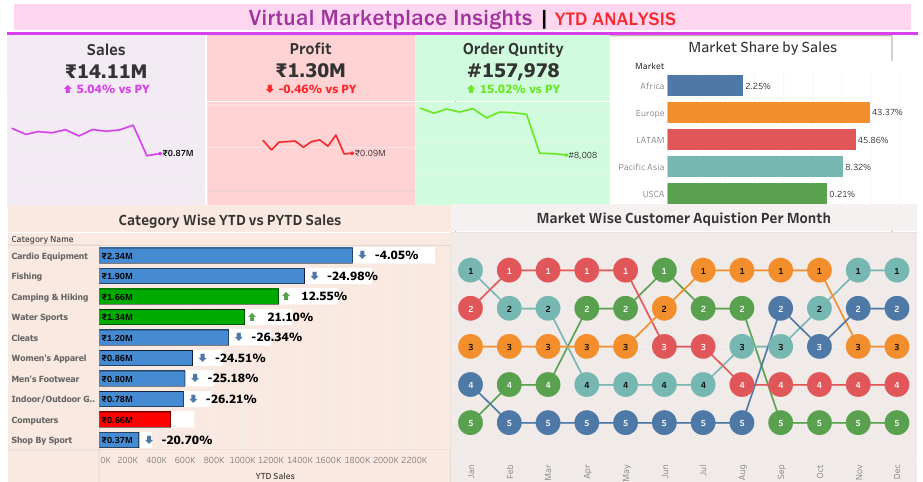

Layout of this report page (visuals, bound fields, positions):
{"tool":"tableau","page":{"name":"Dashboard 1","canvas":[1600,900],"ordinal":0},"visuals":[{"type":"title","box":[8,8,1584,53]},{"type":"blank","box":[8,61,776,415.5]},{"type":"web page","param":"Virtual Marketplace Insights","box":[784,61,776,415.5]},{"type":"blank","box":[1560,61,32,831]},{"type":"worksheet","title":"Market Share by Sales","mark":"Automatic","rows":["Market"],"cols":["Sales"],"box":[1060,63,536,306]},{"type":"worksheet","title":"Profit KPI","mark":"Automatic","rows":["Profit Per Order"],"cols":["Order Date"],"box":[351,65,364,301]},{"type":"worksheet","title":"Order Qunatity KPI","mark":"Automatic","rows":["Order Quantity"],"cols":["Order Date"],"box":[718,65,342,300]},{"type":"worksheet","title":"Sales KPI","mark":"Automatic","rows":["Sales"],"cols":["Order Date"],"box":[0,66,347,301]},{"type":"worksheet","title":"Market Wise Customer Aquisition Per Month","mark":"Automatic","cols":["Order Date"],"box":[780,363,818,491]},{"type":"worksheet","title":"Category Wise YTD vs PYTD Sales","mark":"Bar","rows":["Category Name"],"cols":["Calculation_1702642176911159323","Calculation_1702642176911159323"],"box":[1,366,780,493]},{"type":"image","box":[8,476.5,776,415.5]},{"type":"dashboard-object","box":[784,476.5,776,415.5]}]}

Visuals, with their boxes on the page's 1600x900 design canvas (x1, y1, x2, y2). These are canvas units, not pixel positions in the 923x482 screenshot, which may show the page scaled, cropped or inside an application window:
title: <bbox>8, 8, 1592, 61</bbox>
blank: <bbox>8, 61, 784, 476</bbox>
web page: <bbox>784, 61, 1560, 476</bbox>
blank: <bbox>1560, 61, 1592, 892</bbox>
"Market Share by Sales" worksheet: <bbox>1060, 63, 1596, 369</bbox>
"Profit KPI" worksheet: <bbox>351, 65, 715, 366</bbox>
"Order Qunatity KPI" worksheet: <bbox>718, 65, 1060, 365</bbox>
"Sales KPI" worksheet: <bbox>0, 66, 347, 367</bbox>
"Market Wise Customer Aquisition Per Month" worksheet: <bbox>780, 363, 1598, 854</bbox>
"Category Wise YTD vs PYTD Sales" worksheet (Bar marks): <bbox>1, 366, 781, 859</bbox>
image: <bbox>8, 476, 784, 892</bbox>
dashboard-object: <bbox>784, 476, 1560, 892</bbox>
